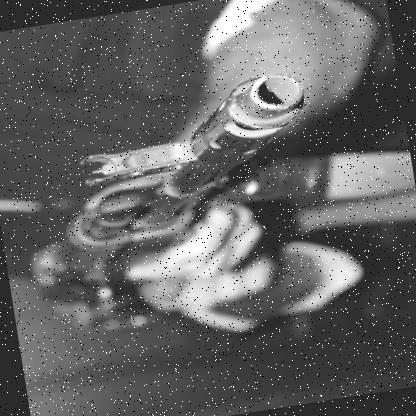rifle: (8, 56, 351, 322)
